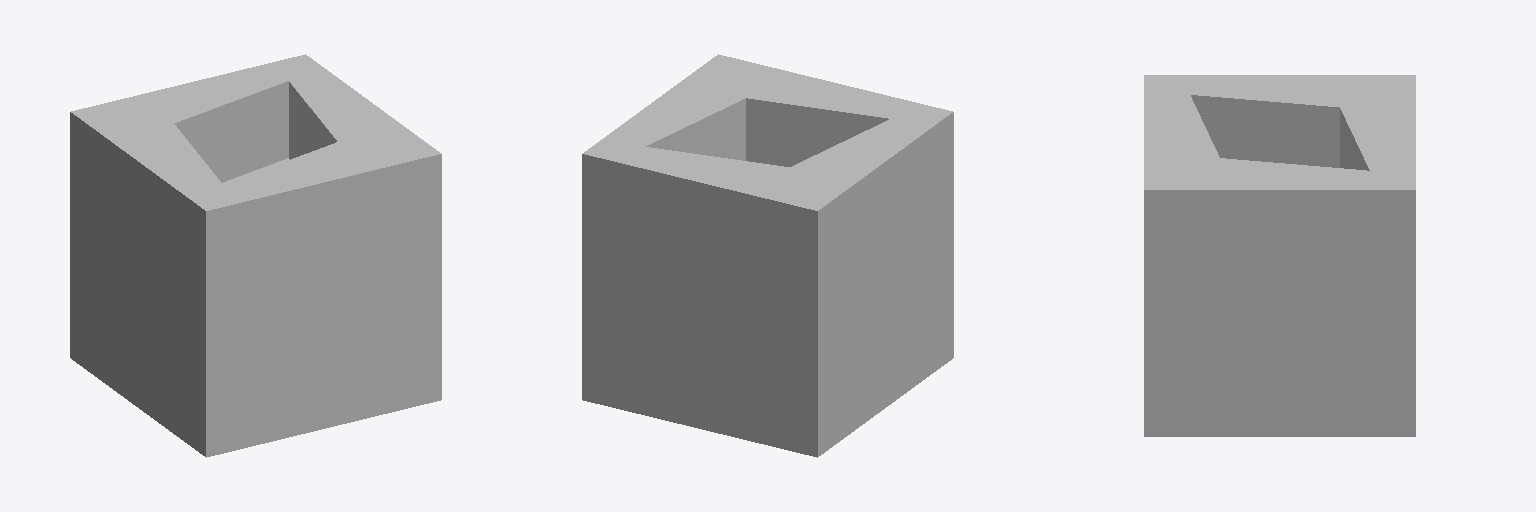
The model's file is Diamond_cube_bottle_rotated45_preprocessed.obj.
3 renders of one model, left to right at view 1: azimuth 30°, elevation 25°; view 2: azimuth 150°, elevation 25°; view 3: azimuth 270°, elevation 25°, orthographic.
Size of the model in its own units: 0.08 by 0.08 by 0.08.